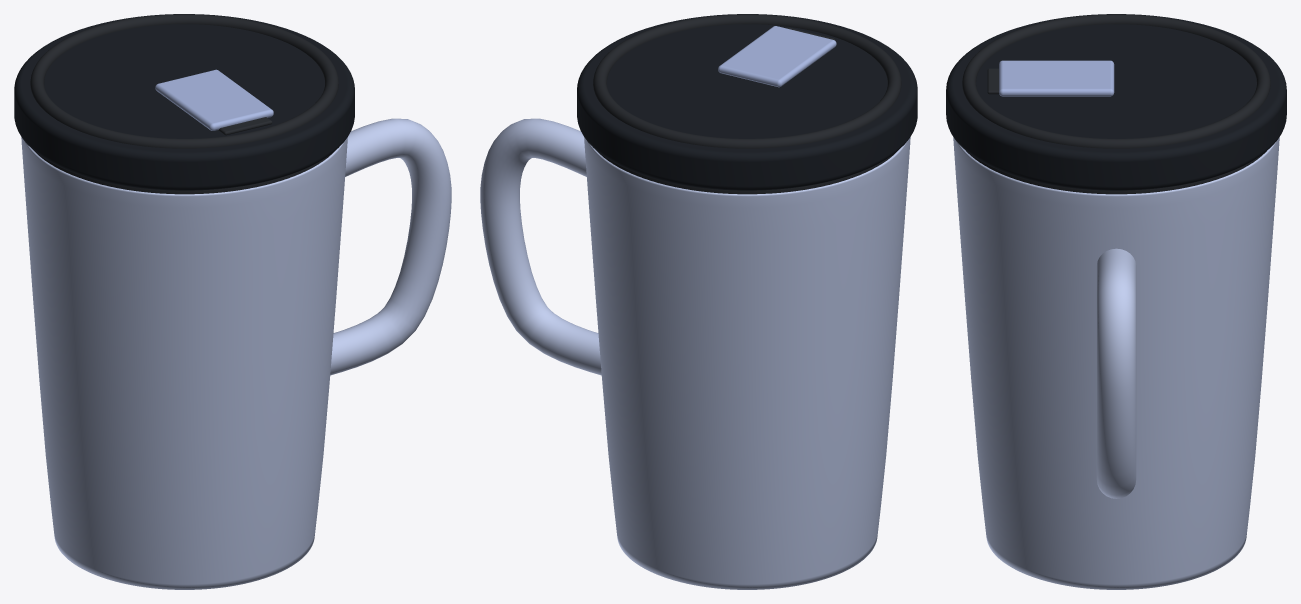
The model's file is travel-mug.glb.
The picture shows the model from 3 angles, left to right: view 1: azimuth 30°, elevation 25°; view 2: azimuth 150°, elevation 25°; view 3: azimuth 270°, elevation 25°; orthographic projection.
Parts seen in each view (by area): view 1: sculpted-surface, sealed-lid-004, double-wall-cup-002, sealed-lid-005, sliding-sip-cover-006, machined-annular-ring; view 2: sculpted-surface, sealed-lid-004, double-wall-cup-002, sealed-lid-005, sliding-sip-cover-006, machined-annular-ring; view 3: sculpted-surface, sealed-lid-004, double-wall-cup-002, sealed-lid-005, sliding-sip-cover-006, machined-annular-ring.
Boxes of the visible parts, x1,y1,x2,y2 form: sculpted-surface: [21, 137, 347, 589]; sealed-lid-004: [14, 14, 354, 190]; double-wall-cup-002: [330, 118, 451, 375]; sealed-lid-005: [30, 14, 338, 148]; sliding-sip-cover-006: [155, 69, 273, 130]; machined-annular-ring: [34, 150, 335, 194]; sculpted-surface: [584, 137, 910, 589]; sealed-lid-004: [577, 14, 917, 190]; double-wall-cup-002: [480, 118, 601, 375]; sealed-lid-005: [593, 14, 901, 148]; sliding-sip-cover-006: [718, 26, 836, 87]; machined-annular-ring: [596, 150, 897, 194]; sculpted-surface: [953, 137, 1279, 589]; sealed-lid-004: [946, 14, 1286, 190]; double-wall-cup-002: [1096, 248, 1136, 498]; sealed-lid-005: [962, 14, 1270, 148]; sliding-sip-cover-006: [999, 60, 1114, 96]; machined-annular-ring: [966, 151, 1266, 194].
Size of the model in its own units: 1.87 by 2 by 1.34.
